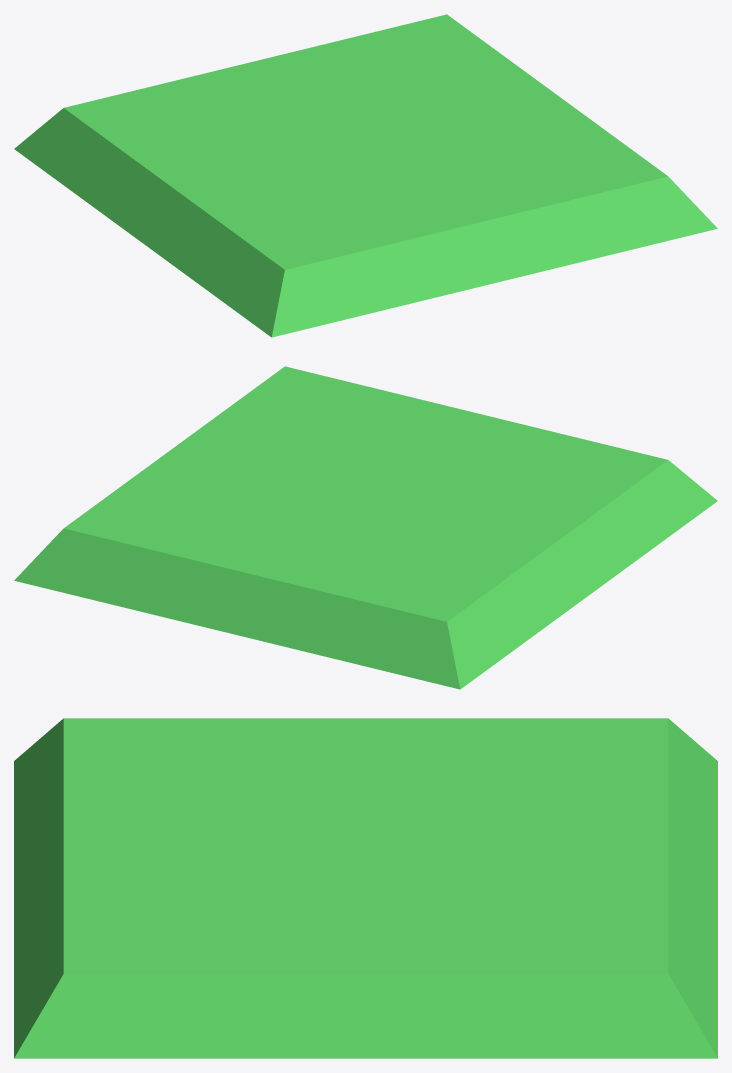
Rendered from Path_Slate_Green.FBX.
3 renders of one model, top to bottom at view 1: azimuth 30°, elevation 25°; view 2: azimuth 150°, elevation 25°; view 3: azimuth 270°, elevation 25°, orthographic. The views are drawn at different scales.
Parts seen in each view (by area): view 1: Path_Slate_Green; view 2: Path_Slate_Green; view 3: Path_Slate_Green.
Part boxes in pixels (x1,y1,x2,y2): Path_Slate_Green: (14, 14, 717, 337); Path_Slate_Green: (14, 366, 717, 689); Path_Slate_Green: (14, 718, 717, 1058).
Bounding box in the file's own units: 100 × 10 × 100.
